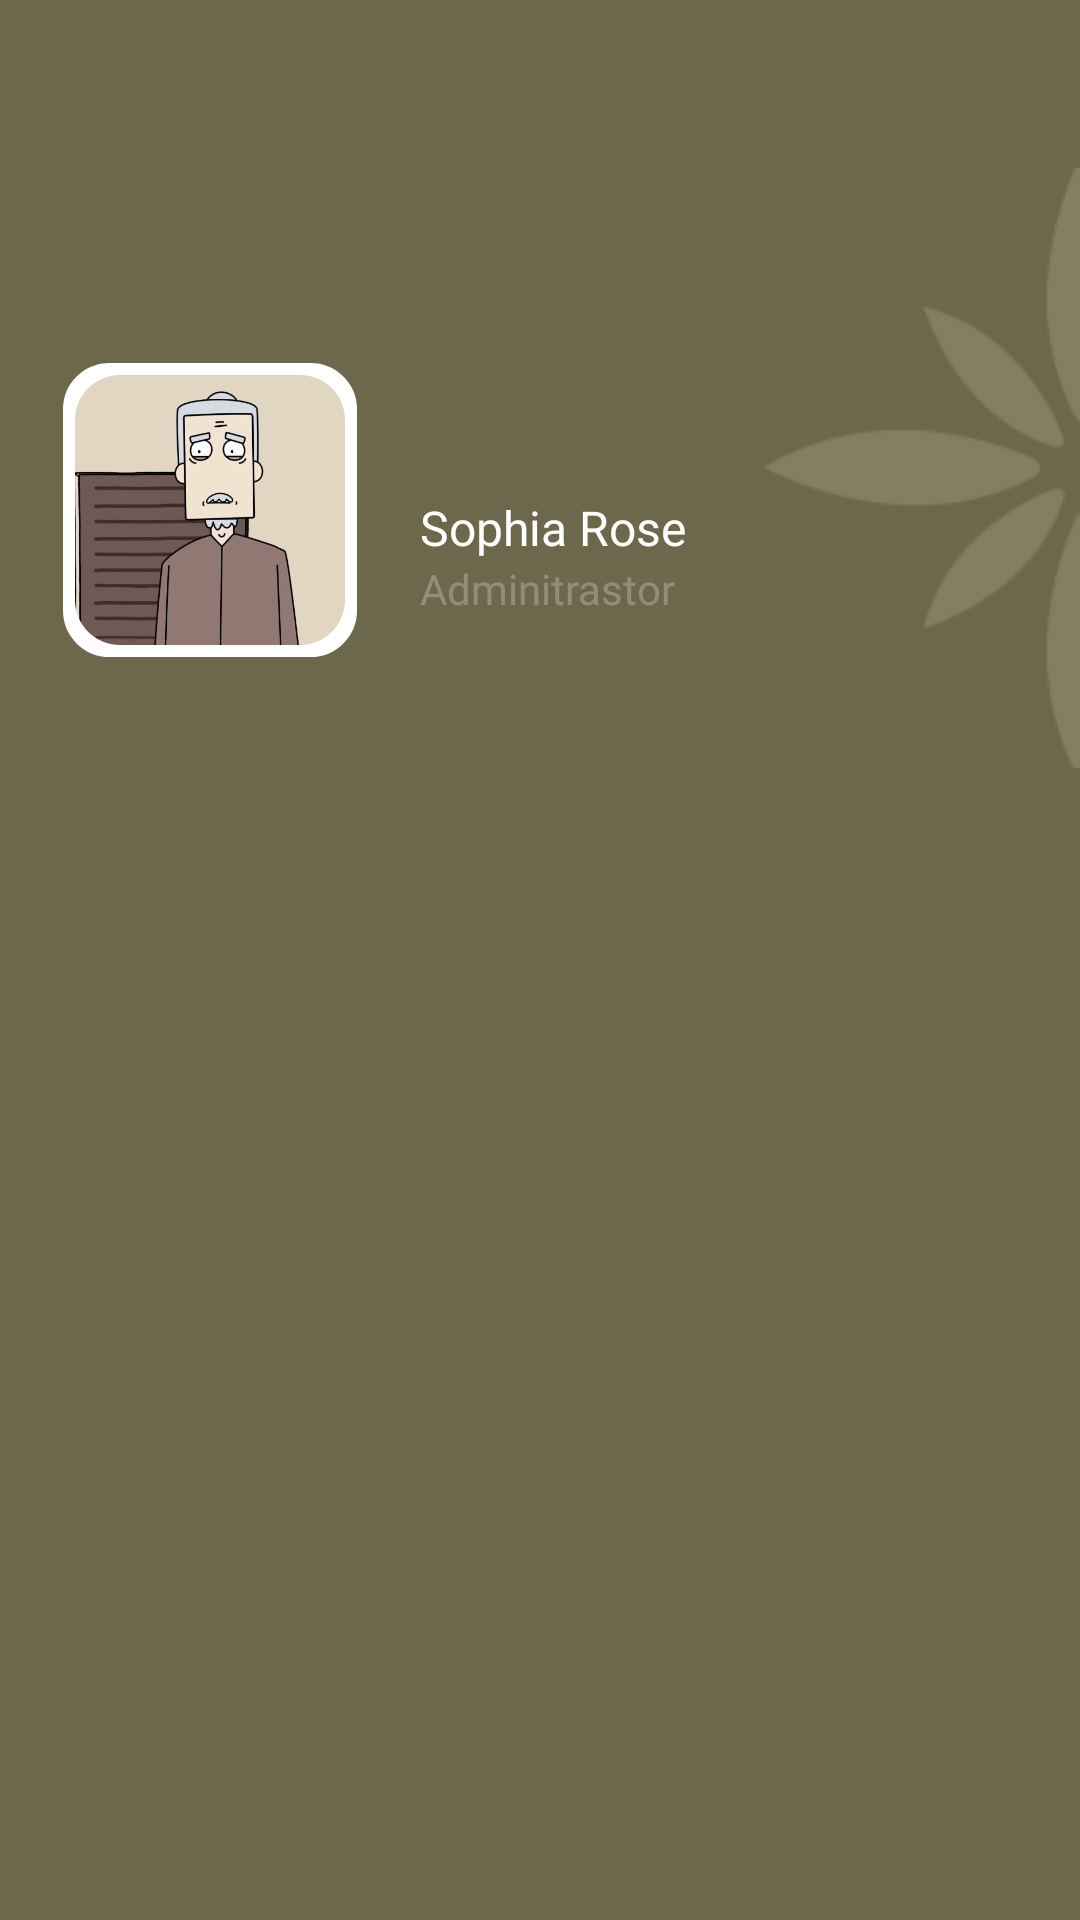

Screen size 1080×1920. Icon name, then its center in pixels as (x=x, y=y):
im user: (x=210, y=510)
